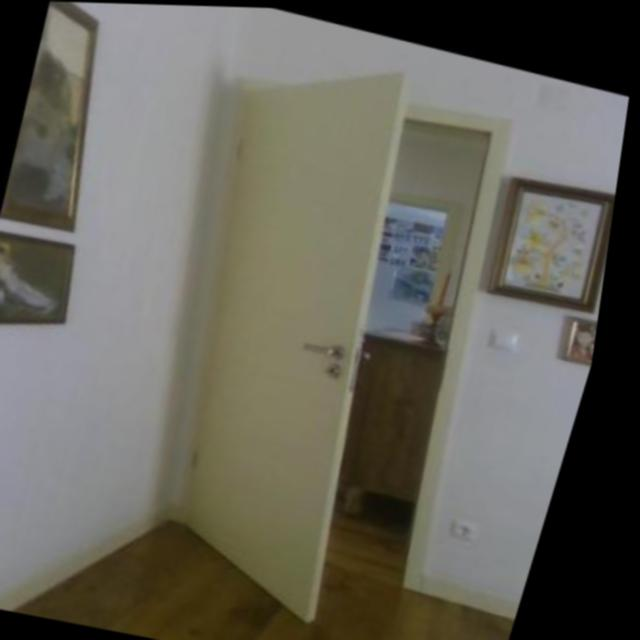door_handle: (288, 316, 362, 364)
